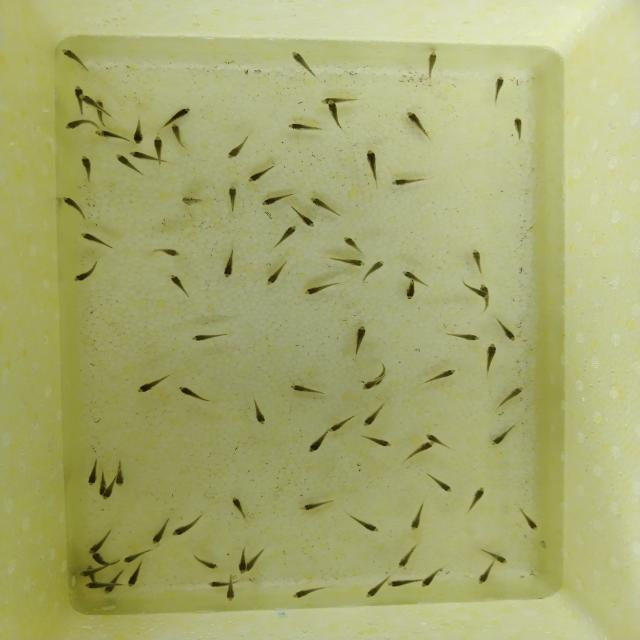fingerling: (134, 372, 174, 394), (245, 163, 283, 186), (171, 514, 207, 538), (60, 47, 91, 74), (309, 194, 345, 217), (405, 110, 432, 140), (224, 135, 254, 162), (495, 384, 526, 410), (423, 469, 455, 494), (492, 314, 520, 342), (416, 368, 462, 385), (349, 324, 371, 359), (302, 280, 344, 298), (361, 402, 391, 427), (265, 259, 291, 287), (346, 514, 382, 534), (488, 424, 518, 448), (78, 231, 115, 250), (289, 51, 315, 78), (364, 148, 382, 187), (271, 223, 297, 250), (86, 528, 114, 553), (72, 261, 102, 284), (418, 566, 449, 588), (120, 547, 160, 564), (358, 432, 393, 451), (404, 441, 434, 463), (218, 250, 239, 281), (396, 543, 421, 569), (480, 342, 499, 376), (465, 485, 487, 514), (230, 496, 252, 525), (190, 329, 232, 344), (320, 254, 365, 268), (407, 501, 426, 534), (518, 505, 541, 532), (148, 516, 170, 544), (247, 545, 268, 574), (63, 117, 101, 133), (258, 190, 296, 206), (441, 330, 484, 344), (167, 273, 192, 297), (290, 204, 316, 227), (76, 154, 97, 182), (297, 499, 339, 513), (248, 397, 268, 426), (328, 412, 357, 432), (423, 50, 440, 84), (130, 116, 148, 148), (340, 234, 367, 255), (479, 547, 512, 564), (389, 175, 428, 189), (176, 386, 210, 402), (150, 246, 186, 261), (169, 122, 188, 150), (166, 105, 194, 124), (62, 196, 86, 218), (510, 114, 527, 145), (469, 245, 486, 276), (362, 579, 388, 599), (326, 101, 345, 128), (84, 456, 101, 486), (288, 383, 327, 396), (361, 374, 389, 392), (290, 587, 326, 601), (125, 563, 146, 587), (190, 554, 221, 570), (307, 432, 329, 454), (364, 260, 388, 280), (492, 73, 508, 103), (476, 564, 496, 587), (402, 278, 419, 305), (94, 130, 129, 143), (284, 121, 320, 133), (386, 578, 422, 590), (178, 193, 211, 206), (226, 185, 240, 215), (115, 458, 126, 488), (152, 134, 166, 157), (95, 95, 105, 126), (110, 153, 130, 167), (205, 578, 228, 590), (128, 150, 151, 162), (398, 266, 419, 278), (83, 581, 105, 591), (77, 94, 95, 105), (90, 554, 114, 562), (76, 569, 102, 576), (224, 587, 236, 602), (70, 84, 87, 94), (236, 560, 248, 574), (423, 432, 439, 441), (103, 587, 117, 596), (102, 490, 114, 500), (478, 291, 490, 300), (479, 284, 489, 290)
